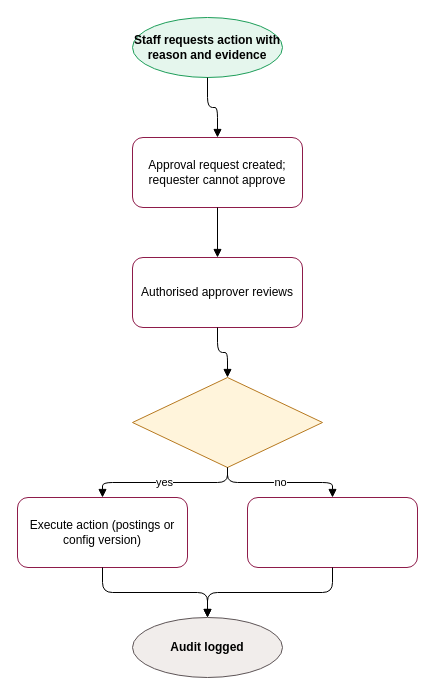
This 435x695 diagram has some shape labels left out. Here are the shapes that lost their labels. From the top down, the centre of each, then its label:
the point at 227,422: Approve?
the point at 332,532: Reject with reason; notify requester
